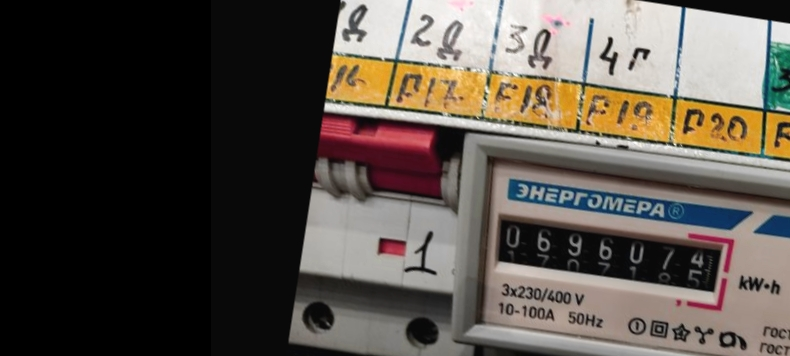0: (502, 220, 523, 248), (626, 236, 646, 264)
4: (689, 245, 706, 267)
5: (686, 266, 702, 287)
6: (532, 224, 554, 251), (596, 232, 616, 261)
7: (657, 242, 677, 270)
9: (564, 229, 585, 257)
screen: (483, 198, 738, 312)
